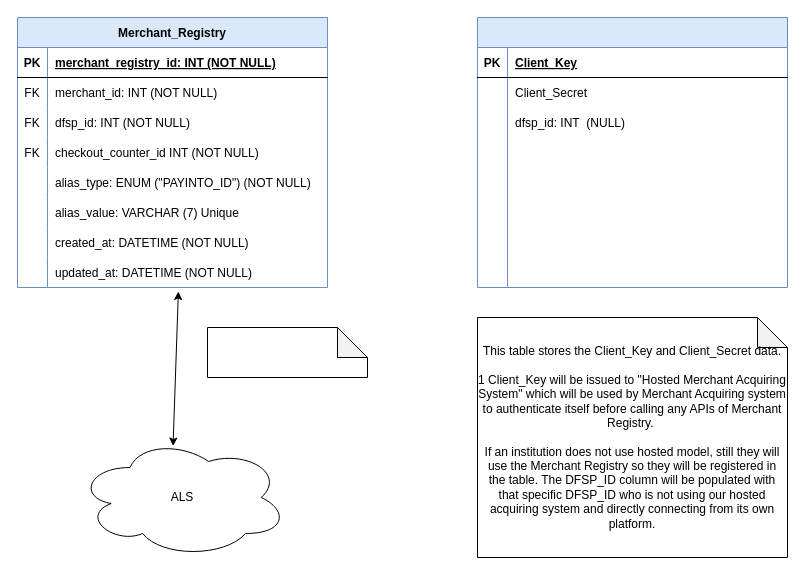
Image size: 805x575. Some labels were removed from this diagram. The shapes that lost their labels are listed below. From the top down, each one's box as (x1, y1, x2, y2) in pixels, then its label:
(476, 16, 788, 288): API_Access
(206, 326, 368, 378): GET /participants
